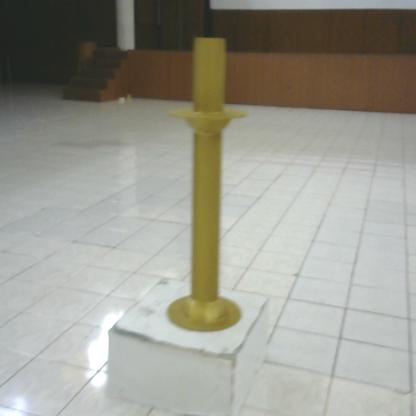pole: (162, 28, 255, 348)
